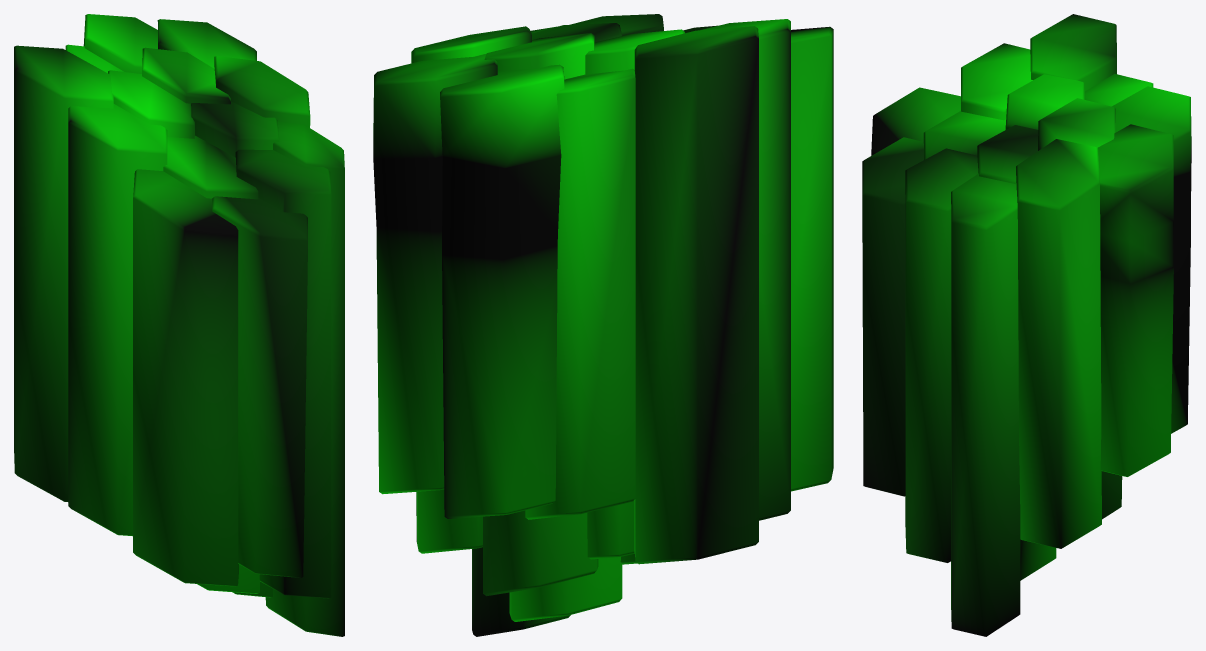
Rendered from SM_RockHexic_RockSlanted10.fbx.
The picture shows the model from 3 angles, left to right: view 1: azimuth 30°, elevation 25°; view 2: azimuth 150°, elevation 25°; view 3: azimuth 270°, elevation 25°; orthographic projection. The views are drawn at different scales.
Parts seen in each view (by area): view 1: SM_RockHexic_RockSlanted10; view 2: SM_RockHexic_RockSlanted10; view 3: SM_RockHexic_RockSlanted10.
Boxes of the visible parts, x1,y1,x2,y2 form: SM_RockHexic_RockSlanted10: (14,14,344,636); SM_RockHexic_RockSlanted10: (373,14,833,636); SM_RockHexic_RockSlanted10: (862,14,1191,636).
Bounding box in the file's own units: 1203 × 1377 × 2336.
